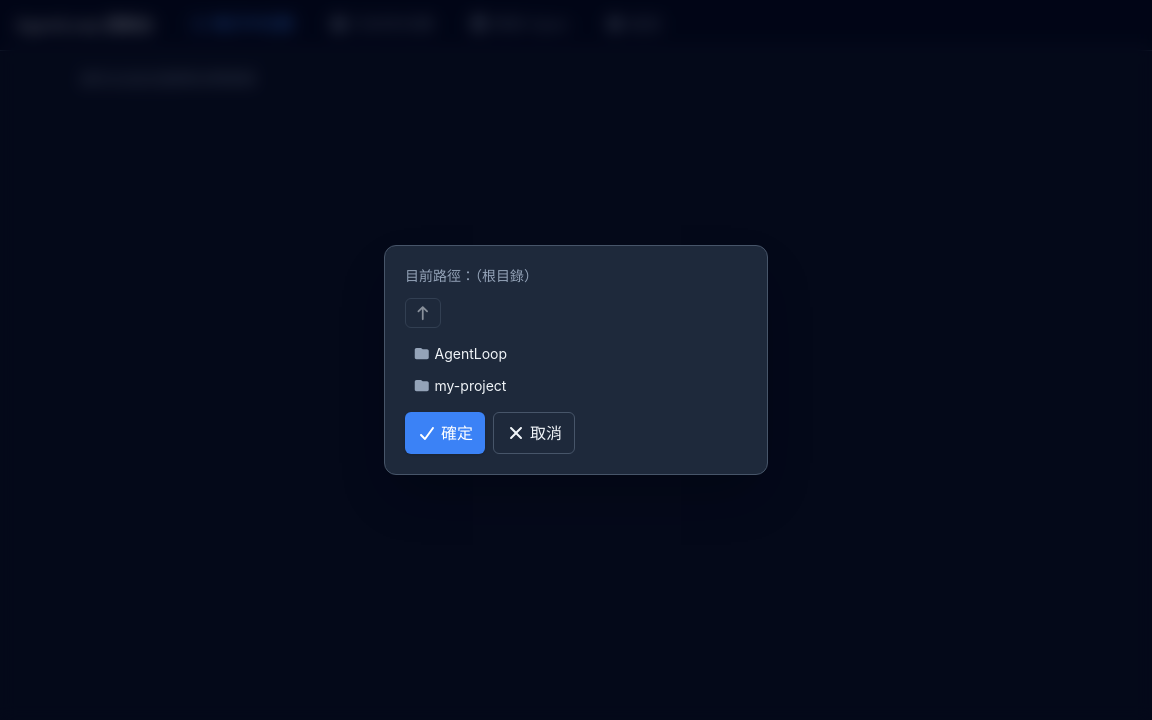
Test: App 分頁 › 尚未指定目標專案時開啟資料夾選擇器並以選定資料夾作為目標專案
Click the button "my-project". click: (470, 386)
box: [405,372,747,400]
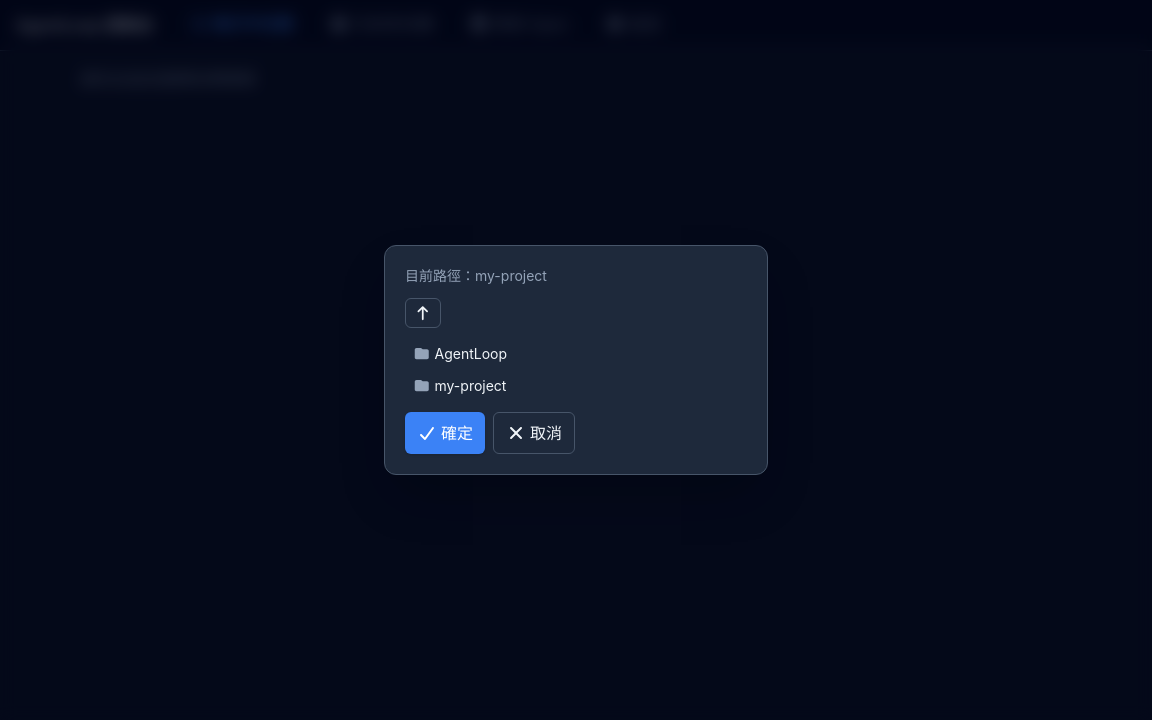
Click the button with class "confirm-button". click: (445, 433)
box: [405,412,485,454]
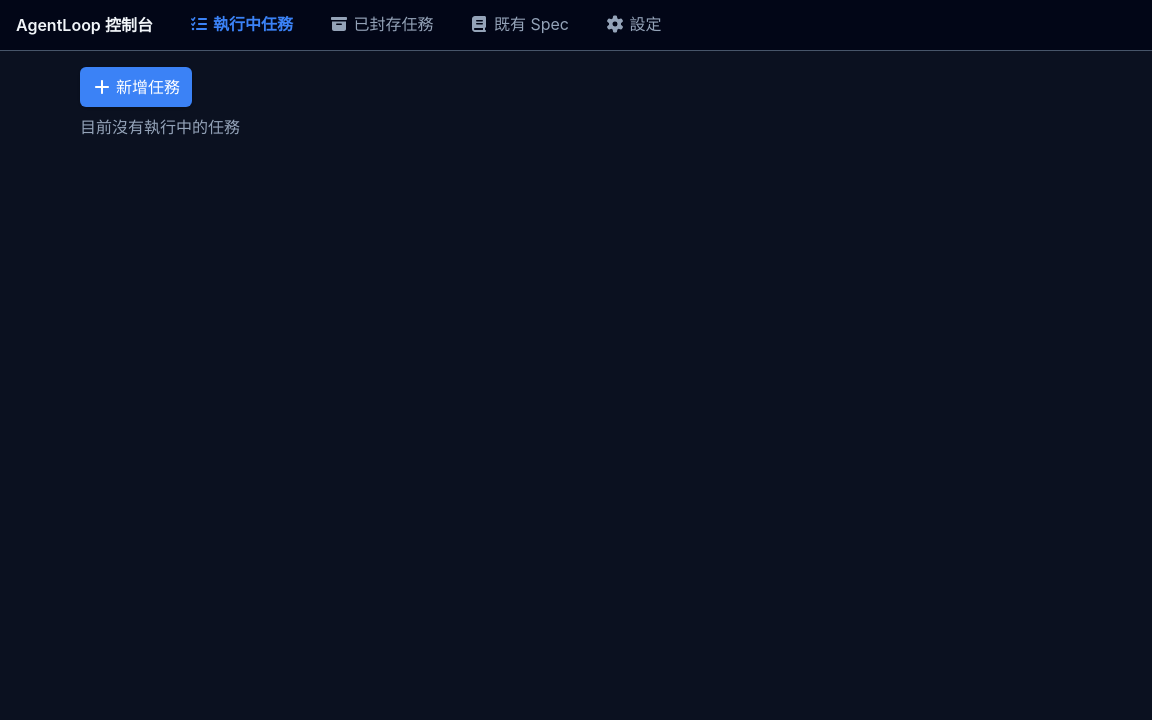
Result: the text "請先在設定選擇目標專案" is gone
